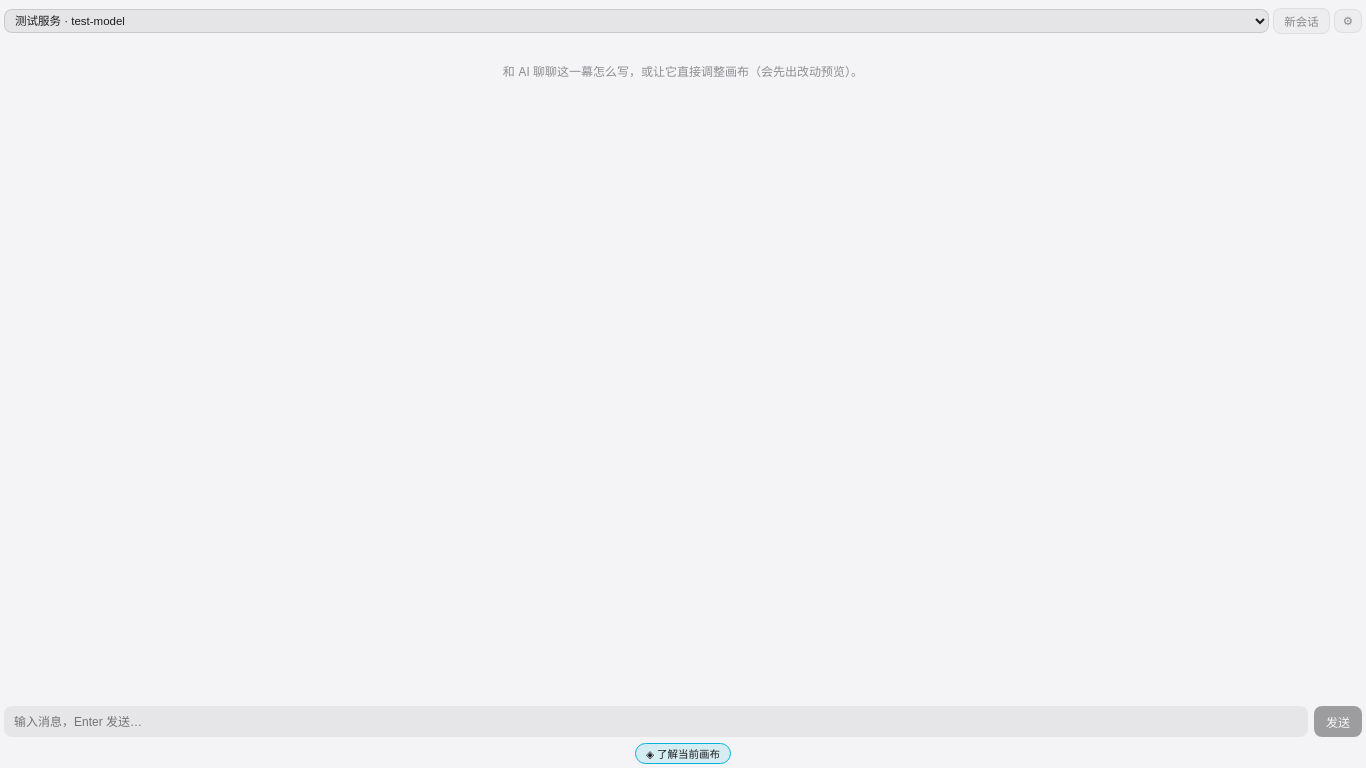
Test case: AiThread 输入行发送按钮的发送路径与 busy 切换（issue #599） › 组合输入中的 Enter 归输入法（issue #570）：不发送；上屏后的真实 Enter 才发送
In the field named "AI 对话输入": (656, 722) [4, 706, 1308, 737], type "ni"
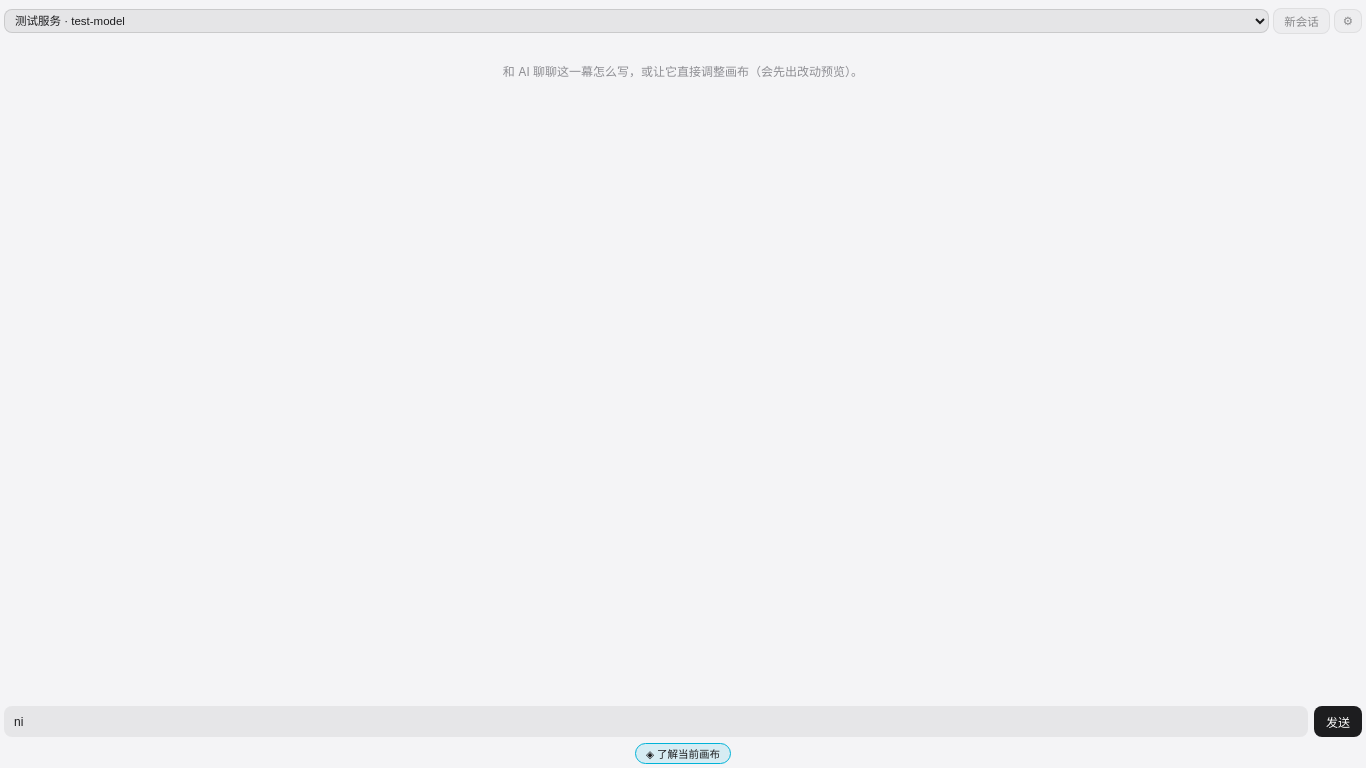
Press Enter in the field named "AI 对话输入", box [4, 706, 1308, 737]
Replace the text in the field named "AI 对话输入" with "你好": (656, 722) [4, 706, 1308, 737]
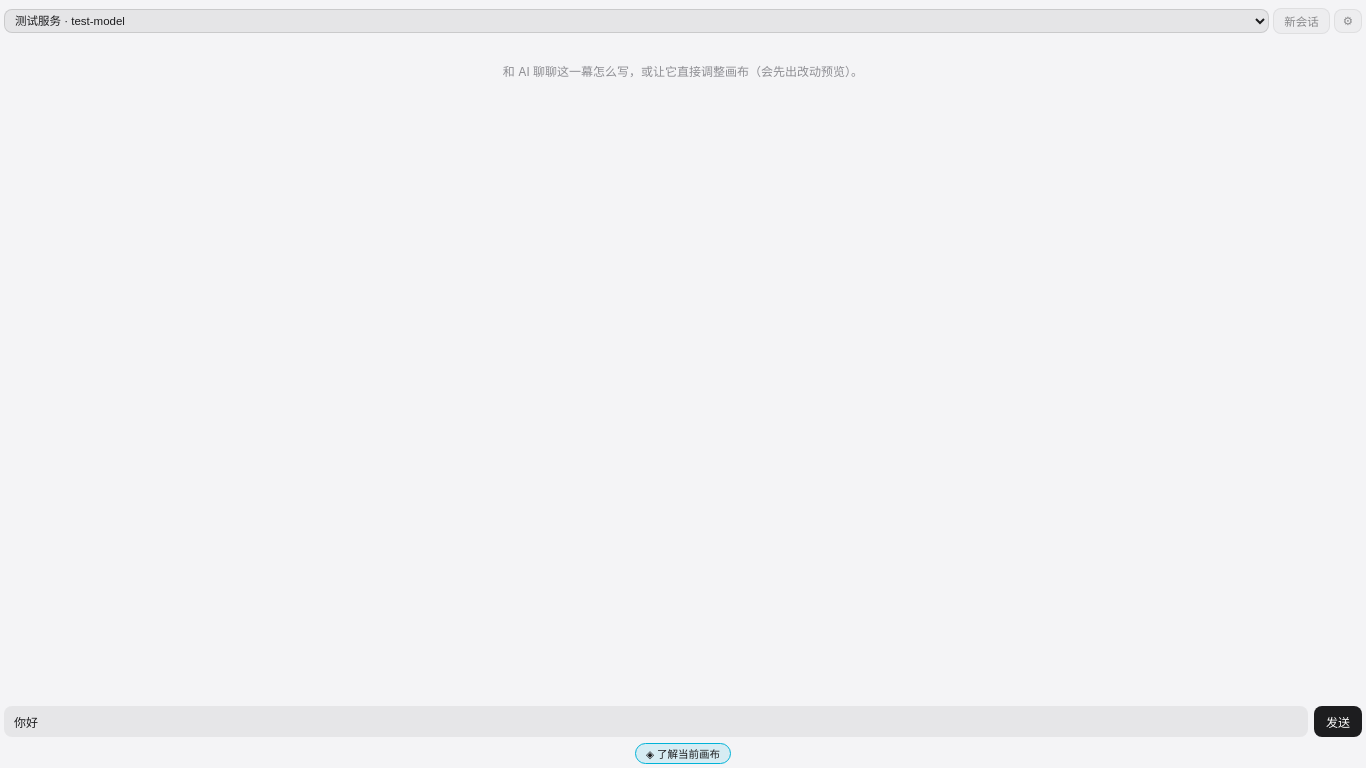
Press Enter in the field named "AI 对话输入", box [4, 706, 1308, 737]
Press Enter in the field named "AI 对话输入", box [4, 706, 1308, 737]
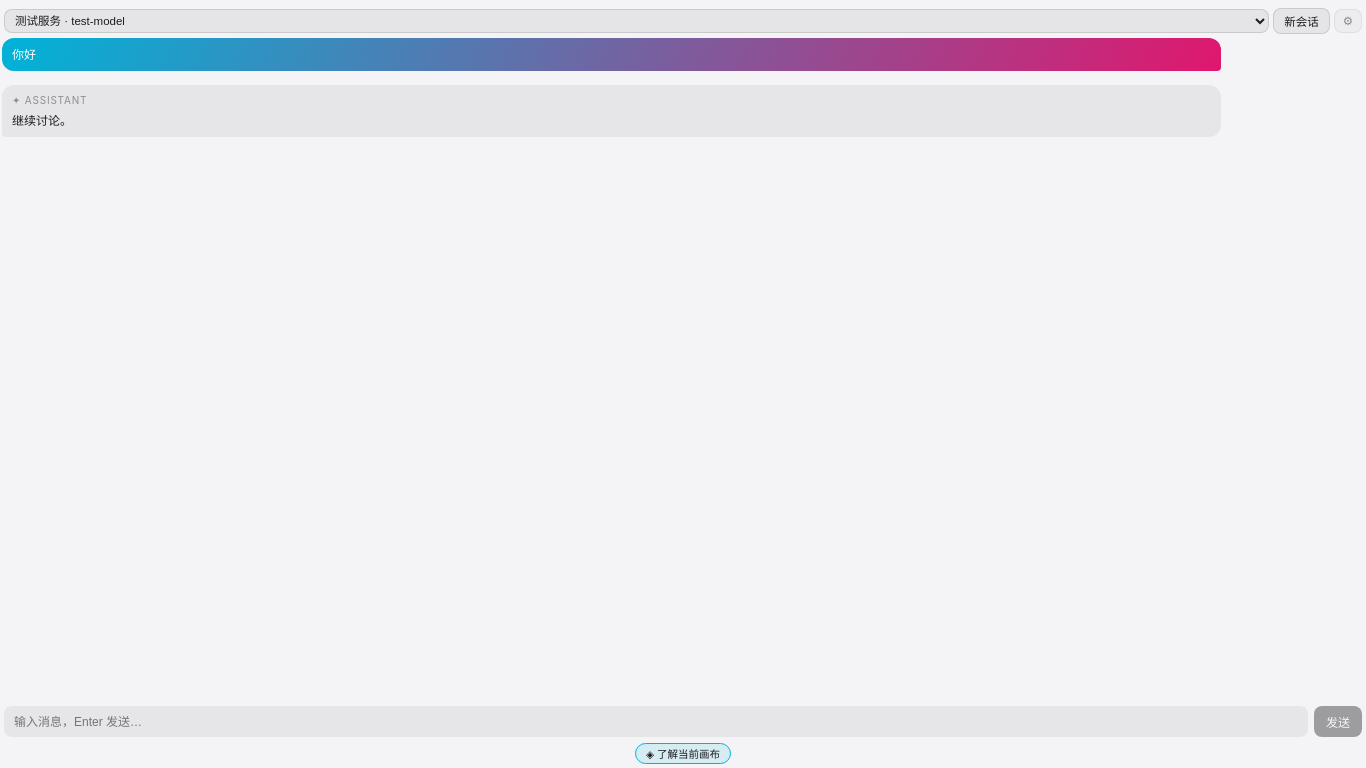
Check: the text "你好" is shown, box [2, 38, 1220, 71]
